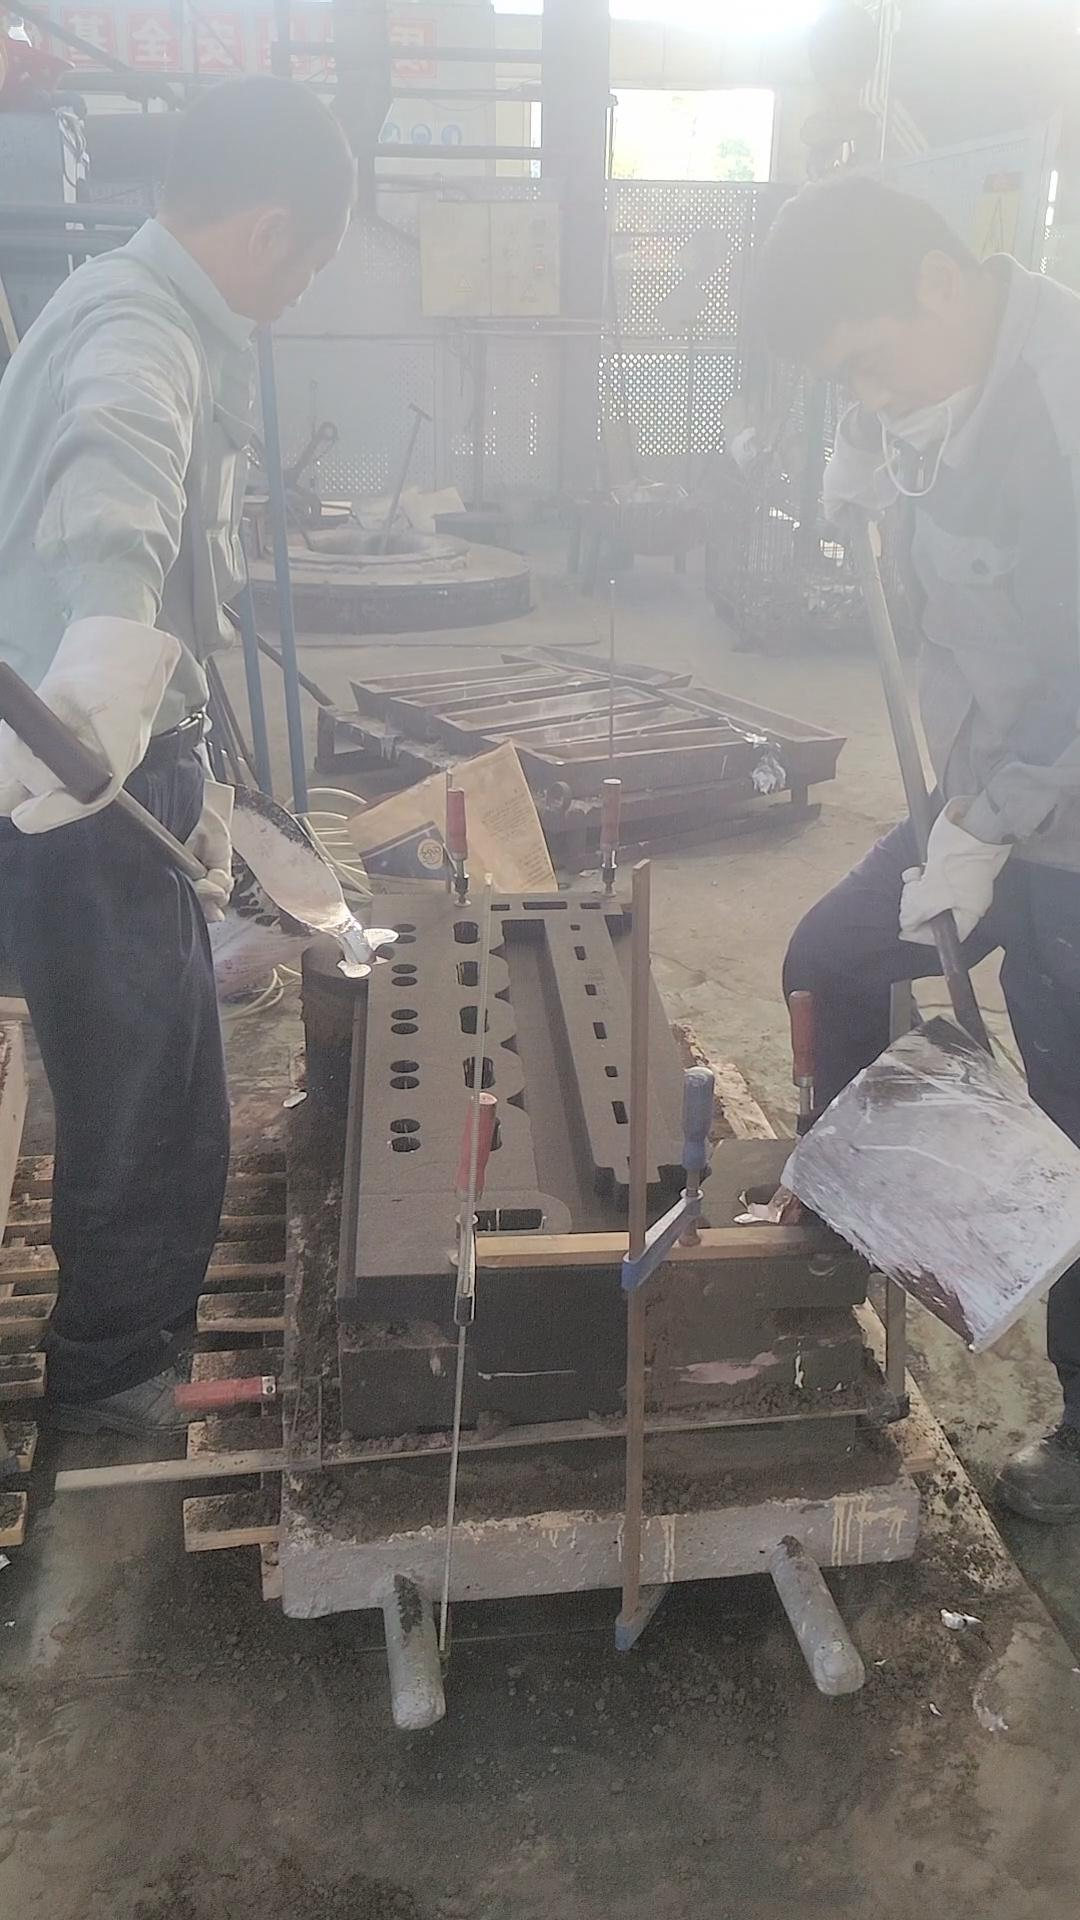pouring hole: (740, 1185, 807, 1220), (338, 943, 396, 967)
